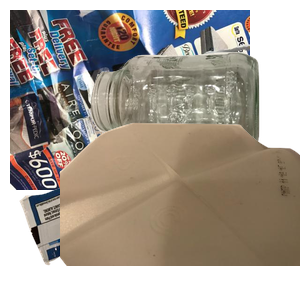glass: (88, 50, 300, 194)
paper: (10, 10, 250, 190)
plastic: (60, 120, 300, 300)
trash: (17, 123, 257, 300)
